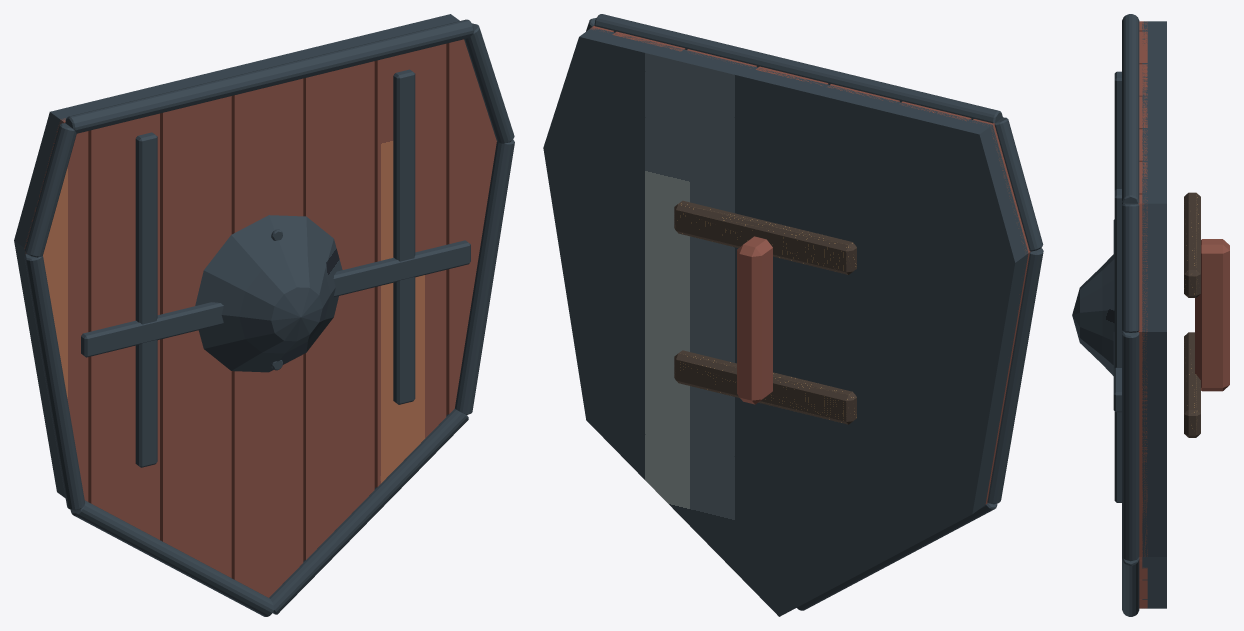
Rendered from shield-graphic.glb.
3 renders of one model, left to right at view 1: azimuth 30°, elevation 25°; view 2: azimuth 150°, elevation 25°; view 3: azimuth 270°, elevation 25°, orthographic. The views are drawn at different scales.
Visible parts, largest first — view 1: shield-graphic runtime mesh; view 2: shield-graphic runtime mesh; view 3: shield-graphic runtime mesh.
Boxes of the visible parts, box(x1,y1,x2,y2) form: shield-graphic runtime mesh: box(14, 14, 514, 616); shield-graphic runtime mesh: box(543, 14, 1043, 616); shield-graphic runtime mesh: box(1072, 14, 1229, 616).
Bounding box in the file's own units: 0.6815 × 0.7291 × 0.2045.
Materials: 3 (3 with a texture image).
